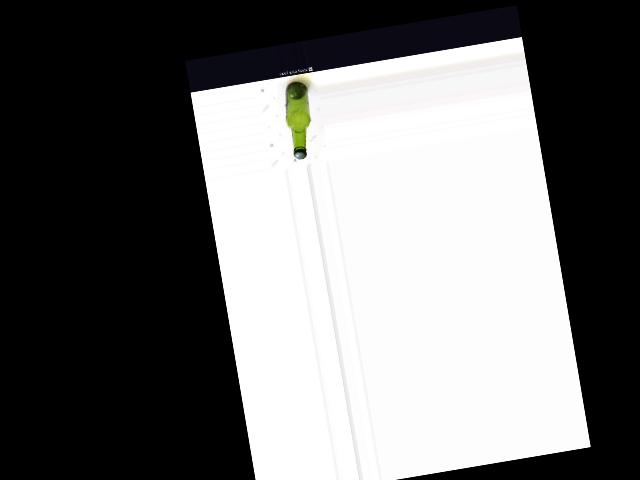beer: (281, 80, 318, 160)
